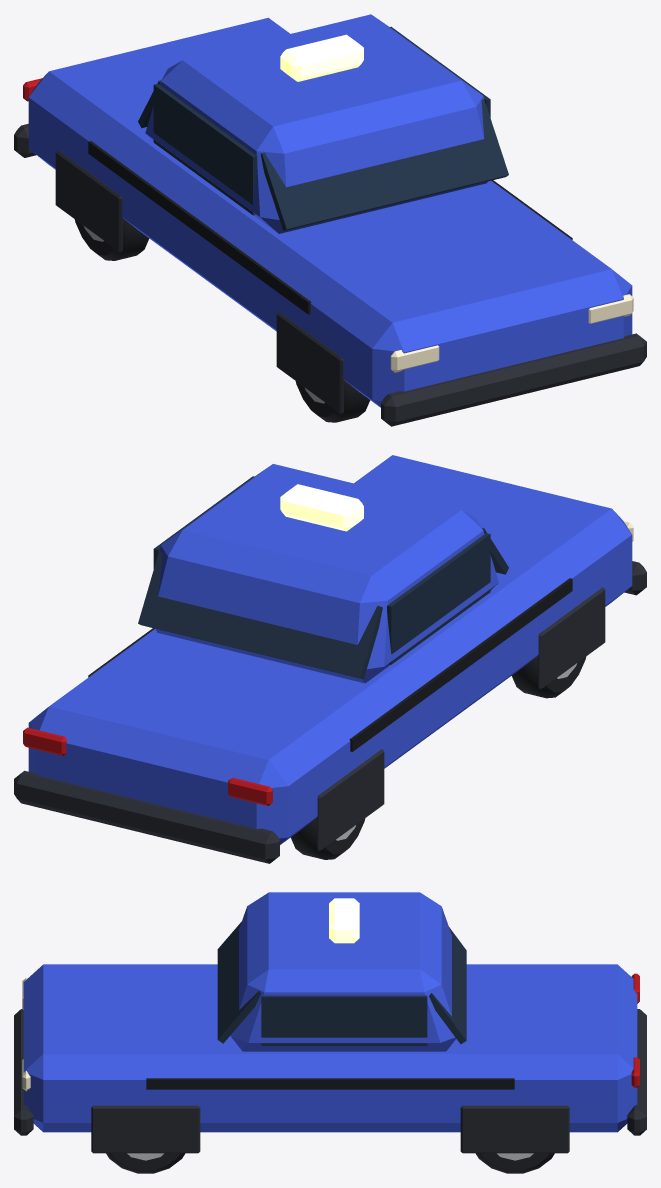
Rendered from car_taxi.glb.
The picture shows the model from 3 angles, top to bottom: view 1: azimuth 30°, elevation 25°; view 2: azimuth 150°, elevation 25°; view 3: azimuth 270°, elevation 25°; orthographic projection. The views are drawn at different scales.
Visible parts, largest first — view 1: body, wheel_RR, wheel_FR; view 2: body, wheel_RR, wheel_FR; view 3: body, wheel_FL, wheel_RL.
Boxes of the visible parts, x1,y1,x2,y2 form: body: (14, 14, 646, 426); wheel_RR: (74, 218, 149, 260); wheel_FR: (295, 380, 370, 422); body: (14, 455, 646, 863); wheel_RR: (291, 817, 365, 859); wheel_FR: (512, 656, 586, 698); body: (14, 892, 646, 1153); wheel_FL: (106, 1153, 185, 1173); wheel_RL: (475, 1153, 554, 1173).
Bounding box in the file's own units: 1.84 × 1.69 × 4.54.
